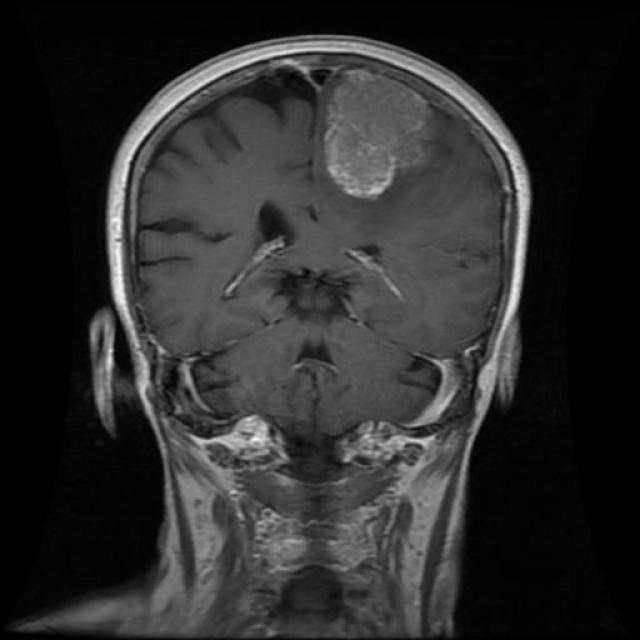Brain-Tumor: (306, 46, 452, 209)
